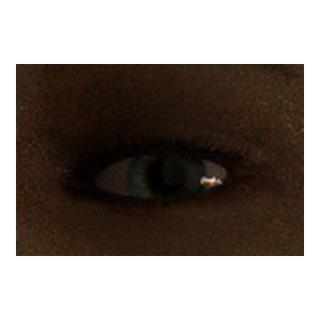pupil: (149, 160, 182, 194)
